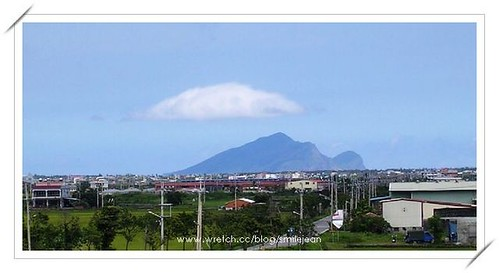turtleIsland: (159, 131, 368, 172)
